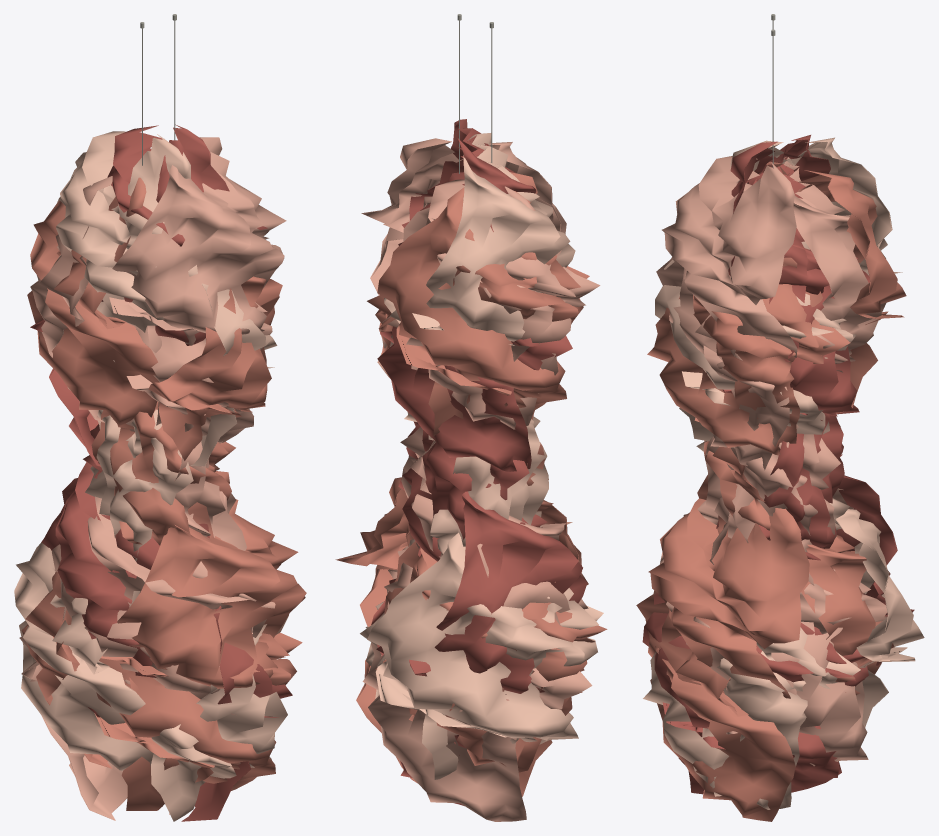
The model's file is N11_sculpture.glb.
3 renders of one model, left to right at view 1: azimuth 30°, elevation 25°; view 2: azimuth 150°, elevation 25°; view 3: azimuth 270°, elevation 25°, orthographic.
Parts seen in each view (by area): view 1: thin translucent copper pink petal 0, thin translucent copper pink petal 3, thin translucent copper pink petal 1, thin translucent copper pink petal 2; view 2: thin translucent copper pink petal 3, thin translucent copper pink petal 0, thin translucent copper pink petal 2, thin translucent copper pink petal 1; view 3: thin translucent copper pink petal 0, thin translucent copper pink petal 1, thin translucent copper pink petal 3, thin translucent copper pink petal 2.
Part boxes in pixels (x1,y1,x2,y2): thin translucent copper pink petal 0: (21,177,306,810); thin translucent copper pink petal 3: (14,131,287,821); thin translucent copper pink petal 1: (19,137,288,820); thin translucent copper pink petal 2: (30,124,292,821); thin translucent copper pink petal 3: (360,133,603,779); thin translucent copper pink petal 0: (335,172,607,796); thin translucent copper pink petal 2: (371,119,587,805); thin translucent copper pink petal 1: (361,138,600,821); thin translucent copper pink petal 0: (636,161,906,821); thin translucent copper pink petal 1: (656,156,887,766); thin translucent copper pink petal 3: (643,137,924,809); thin translucent copper pink petal 2: (642,135,914,794).
Size of the model in its own units: 0.7086 by 2.1 by 0.7039.
